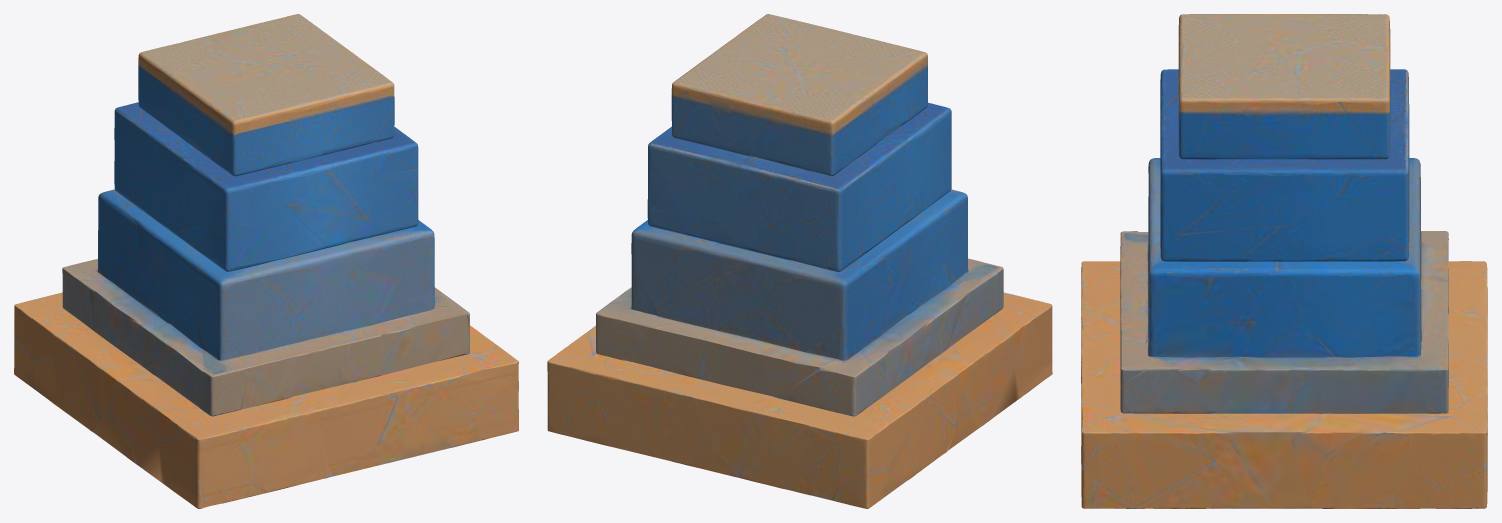
Rendered from lm_skyline_museum.glb.
3 renders of one model, left to right at view 1: azimuth 30°, elevation 25°; view 2: azimuth 150°, elevation 25°; view 3: azimuth 270°, elevation 25°, orthographic. The views are drawn at different scales.
Bounding box in the file's own units: 1.9 × 1.89 × 1.9.
1 material, 1 textured.
